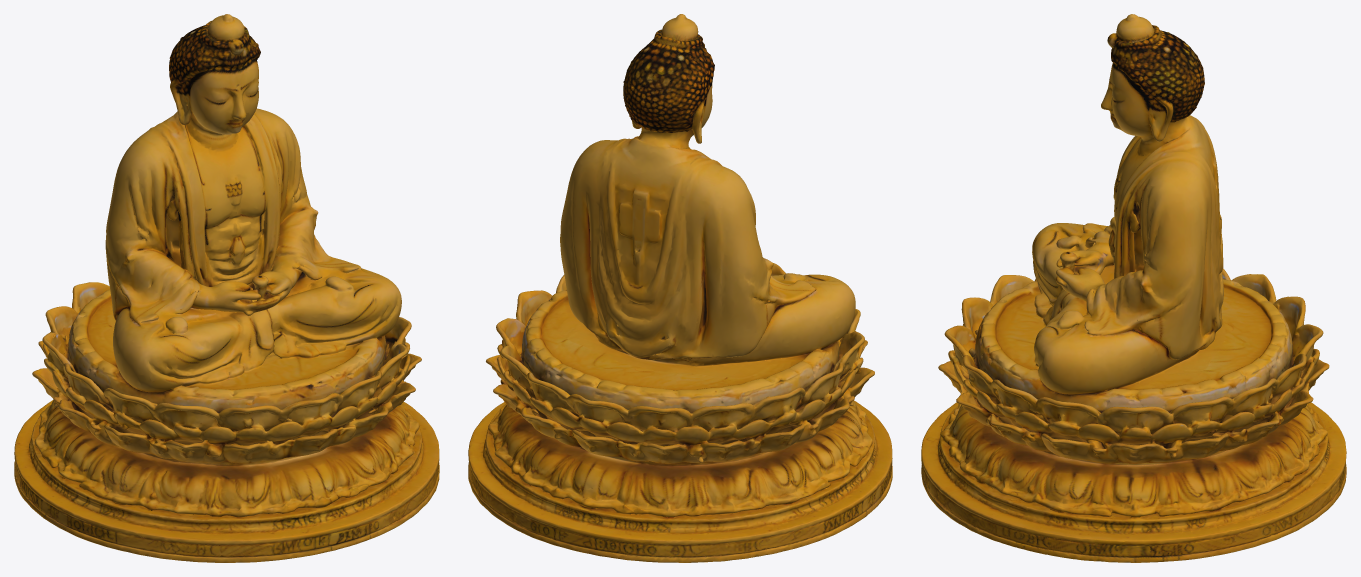
The model's file is amida_tripo_single.glb.
The picture shows the model from 3 angles, left to right: view 1: azimuth 30°, elevation 25°; view 2: azimuth 150°, elevation 25°; view 3: azimuth 270°, elevation 25°; orthographic projection.
Visible parts, largest first — view 1: tripo_node_c0904241-5aea-454b-be2f-02cd9599120c; view 2: tripo_node_c0904241-5aea-454b-be2f-02cd9599120c; view 3: tripo_node_c0904241-5aea-454b-be2f-02cd9599120c.
Boxes of the visible parts, x1,y1,x2,y2 form: tripo_node_c0904241-5aea-454b-be2f-02cd9599120c: [14, 14, 439, 562]; tripo_node_c0904241-5aea-454b-be2f-02cd9599120c: [468, 14, 892, 562]; tripo_node_c0904241-5aea-454b-be2f-02cd9599120c: [921, 14, 1346, 562].
Size of the model in its own units: 0.841 by 0.9999 by 0.8404.
Materials: 1 (1 with a texture image).
